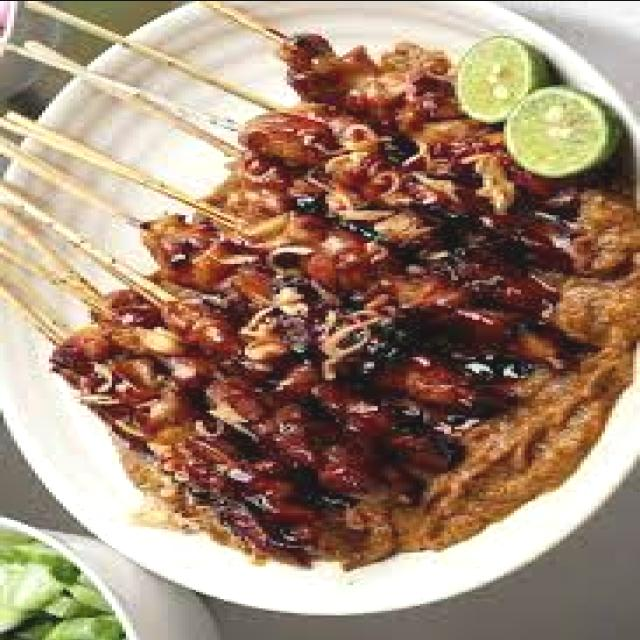sate: (0, 26, 560, 542)
